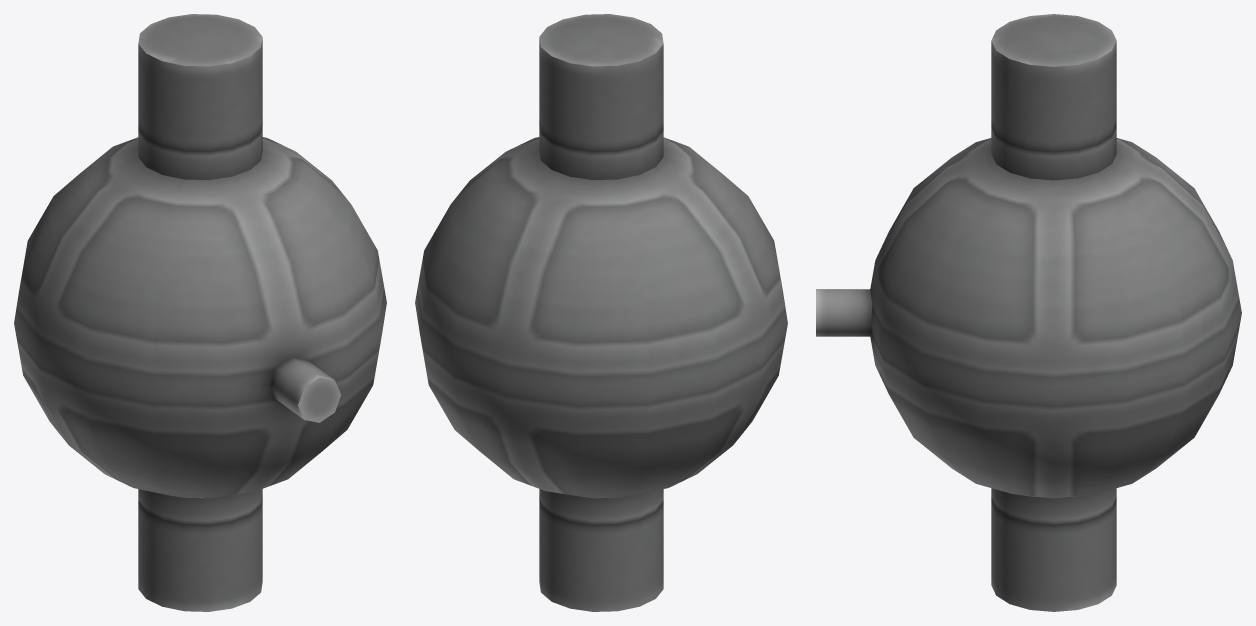
Rendered from cervantes_gyro_srf_2.obj.
3 views of the same model, side by side, from view 1: azimuth 30°, elevation 25°; view 2: azimuth 150°, elevation 25°; view 3: azimuth 270°, elevation 25° (orthographic).
Parts seen in each view (by area): view 1: cervantes_gyro_srf_2; view 2: cervantes_gyro_srf_2; view 3: cervantes_gyro_srf_2.
Boxes of the visible parts, x1,y1,x2,y2 form: cervantes_gyro_srf_2: [14, 14, 386, 611]; cervantes_gyro_srf_2: [415, 14, 787, 611]; cervantes_gyro_srf_2: [816, 14, 1241, 611].
Bounding box in the file's own units: 0.375 × 0.6125 × 0.425.
